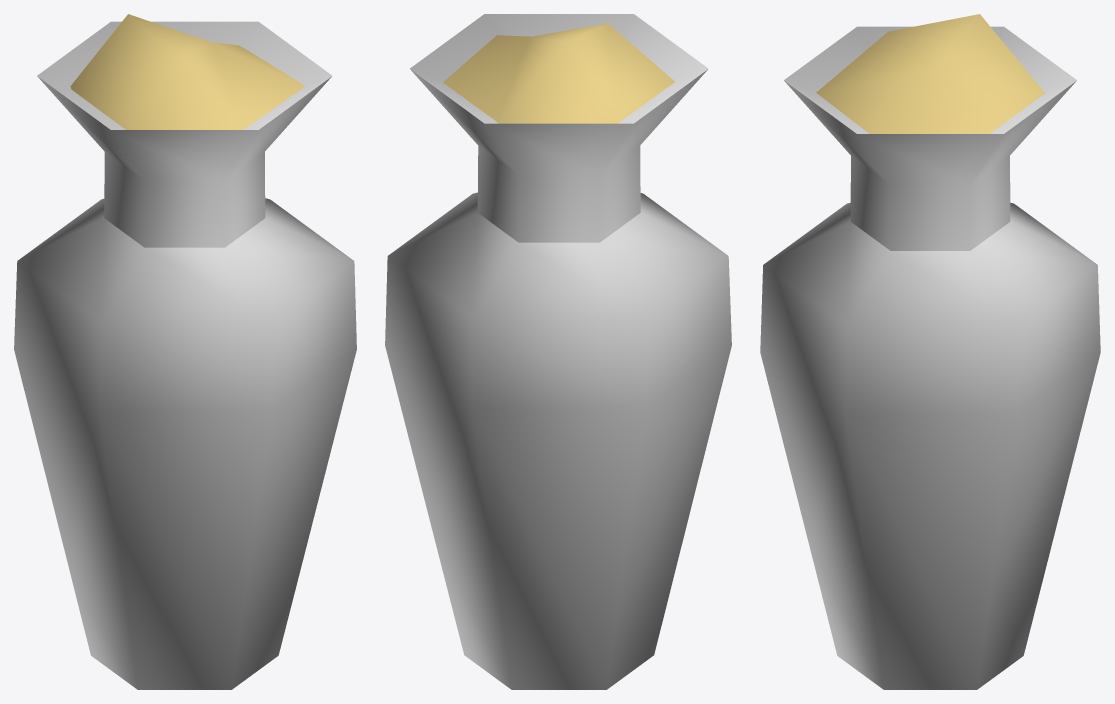
Rendered from firedUrnGrain.glb.
3 views of the same model, side by side, from view 1: azimuth 30°, elevation 25°; view 2: azimuth 150°, elevation 25°; view 3: azimuth 270°, elevation 25° (orthographic).
Parts seen in each view (by area): view 1: Cube, wheat; view 2: Cube, wheat; view 3: Cube, wheat.
Part boxes in pixels (x1,y1,x2,y2): Cube: [14, 21, 356, 689]; wheat: [70, 14, 304, 129]; Cube: [385, 14, 731, 689]; wheat: [443, 23, 674, 123]; Cube: [760, 26, 1100, 689]; wheat: [816, 14, 1044, 133].
Size of the model in its own units: 0.3647 by 0.8552 by 0.4211.
